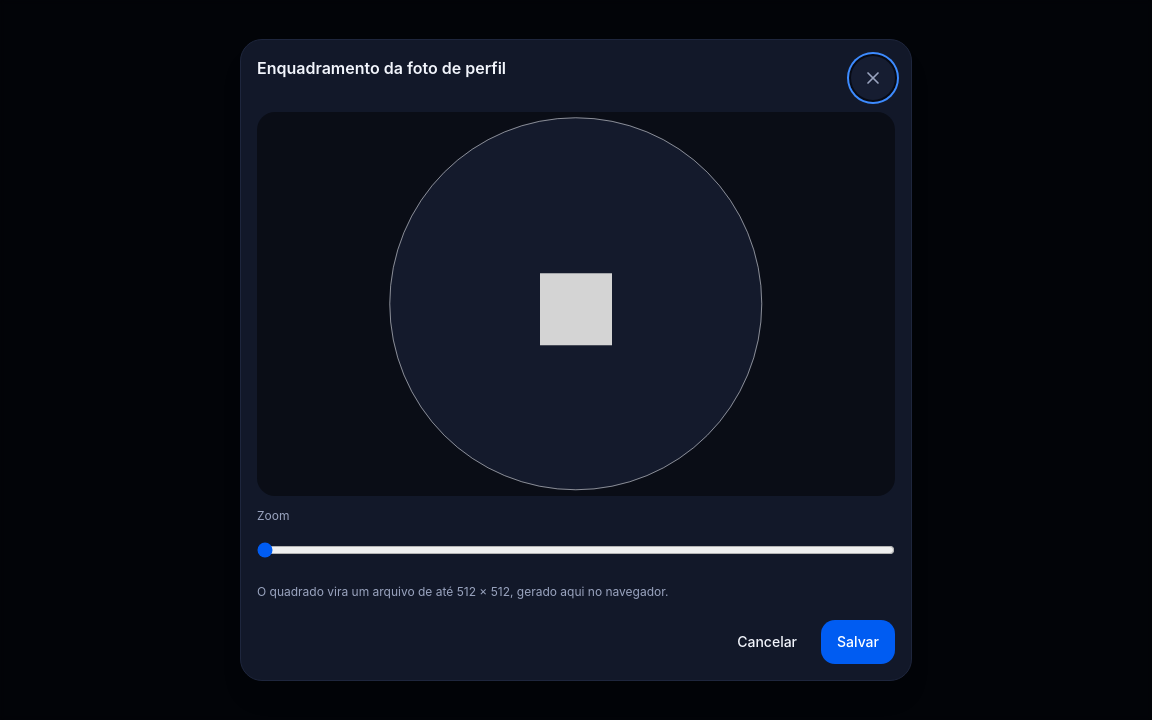
Test: ProfilePhotoCropper › mostra o motivo quando o navegador não consegue recortar
The width and height of the screenshot is (1152, 720).
Click the button with test id "crop-save": (858, 642) [821,620,895,664]
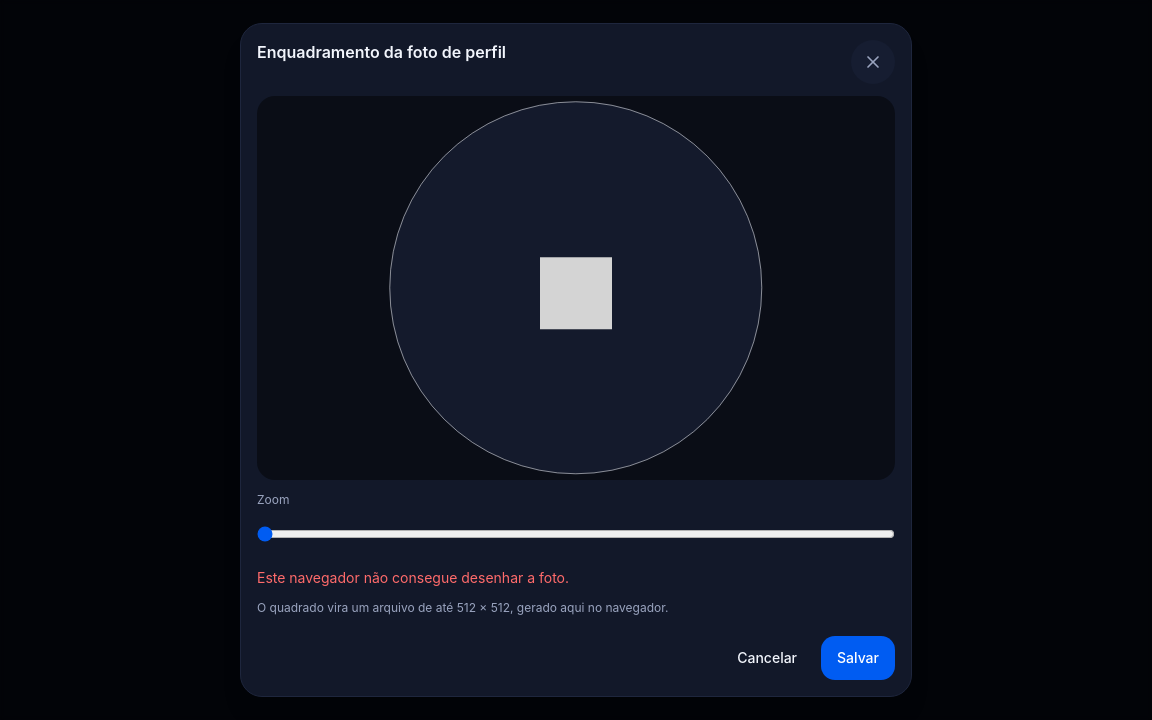
Expected: the message with test id "crop-message" reads "Este navegador não consegue desenhar a foto.", [257,569,569,586]
